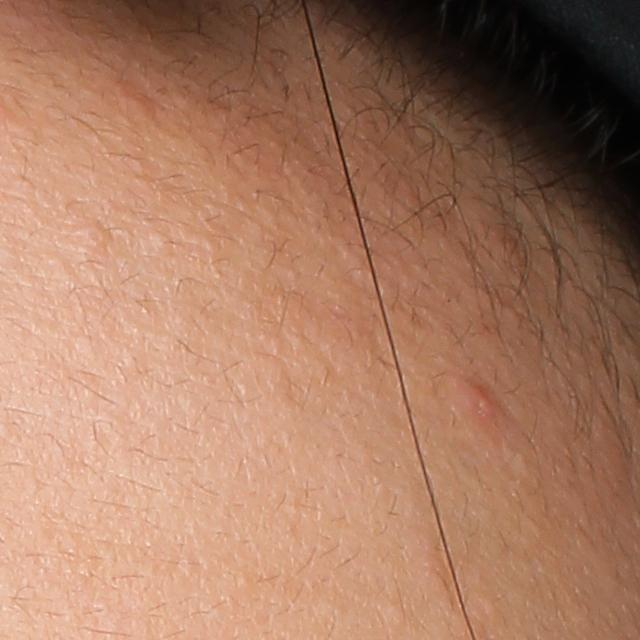comedo: (83, 222, 109, 245), (152, 229, 173, 255)
papule: (464, 380, 499, 427)
